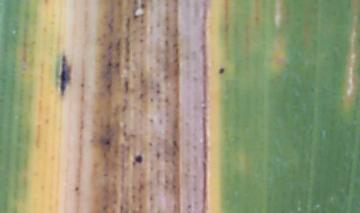tarspot: (54, 46, 72, 99), (132, 153, 144, 165), (217, 65, 226, 76)
